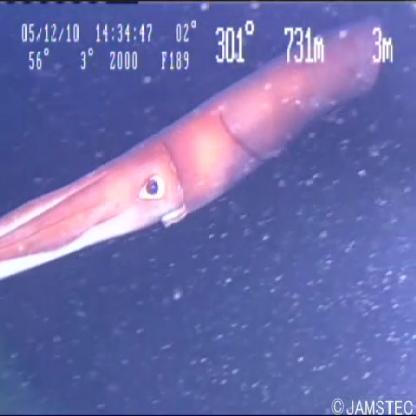Bio: (1, 13, 389, 281)
